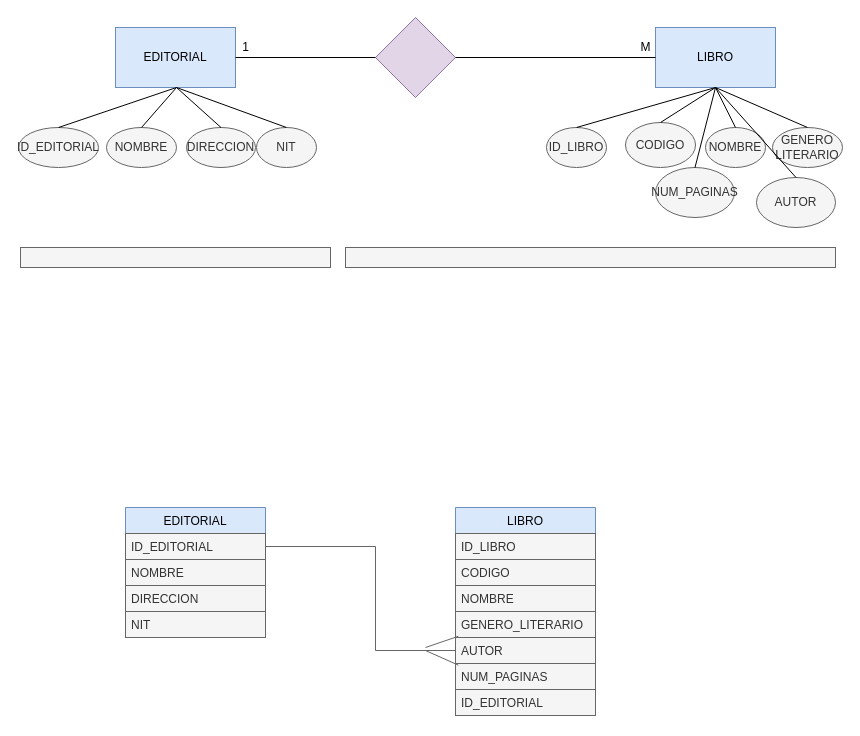
Some shapes in this 860 by 736 pixel diagram are drawn without their labels. The shapes that lost their labels are listed below. From the top down, each one's centre as x and y in pixels, then its label:
point 415,57: PUBLICAR IMPRIMIR
point 175,257: EDITORIAL(ID_EDITORIAL, NOMBRE, DIRECCION,NIT)
point 590,257: LIBRO(ID_LIBRO,CODIGO,NOMBRE,AUTOR,GENEROLITERARIO,NUMERO_PAGINAS)
